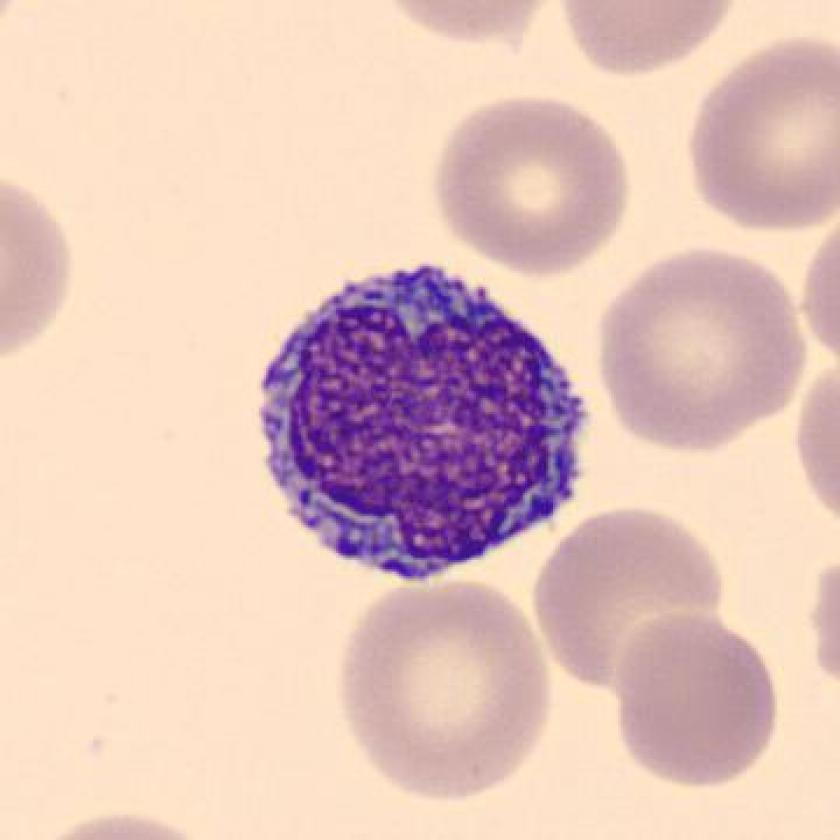monocyte: (246, 249, 603, 600)
